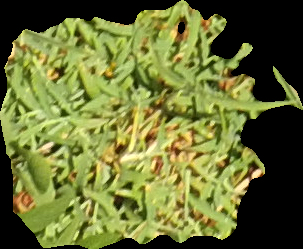grass: (1, 1, 302, 248)
